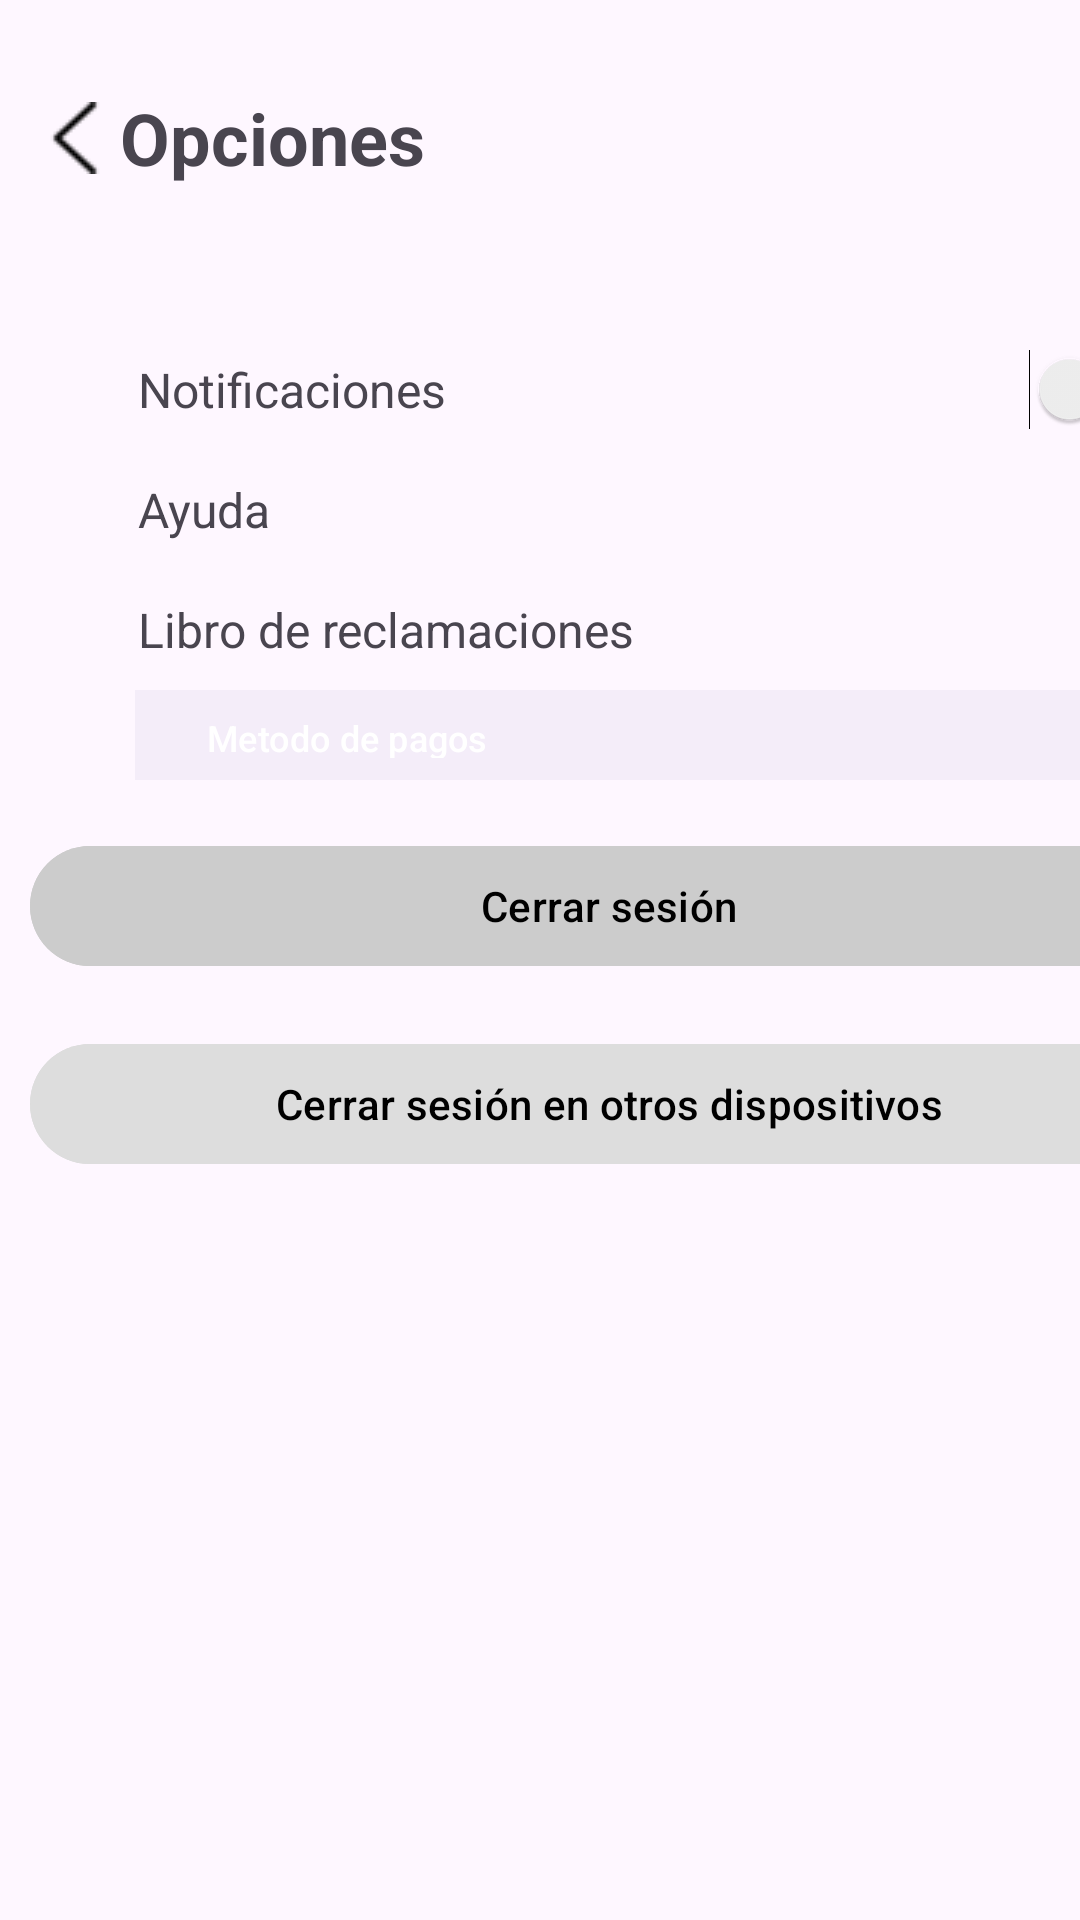

Screen size 1080px x 1920px. Icon name, then its center in pixels as [x,y]:
Volver: [75,138]
